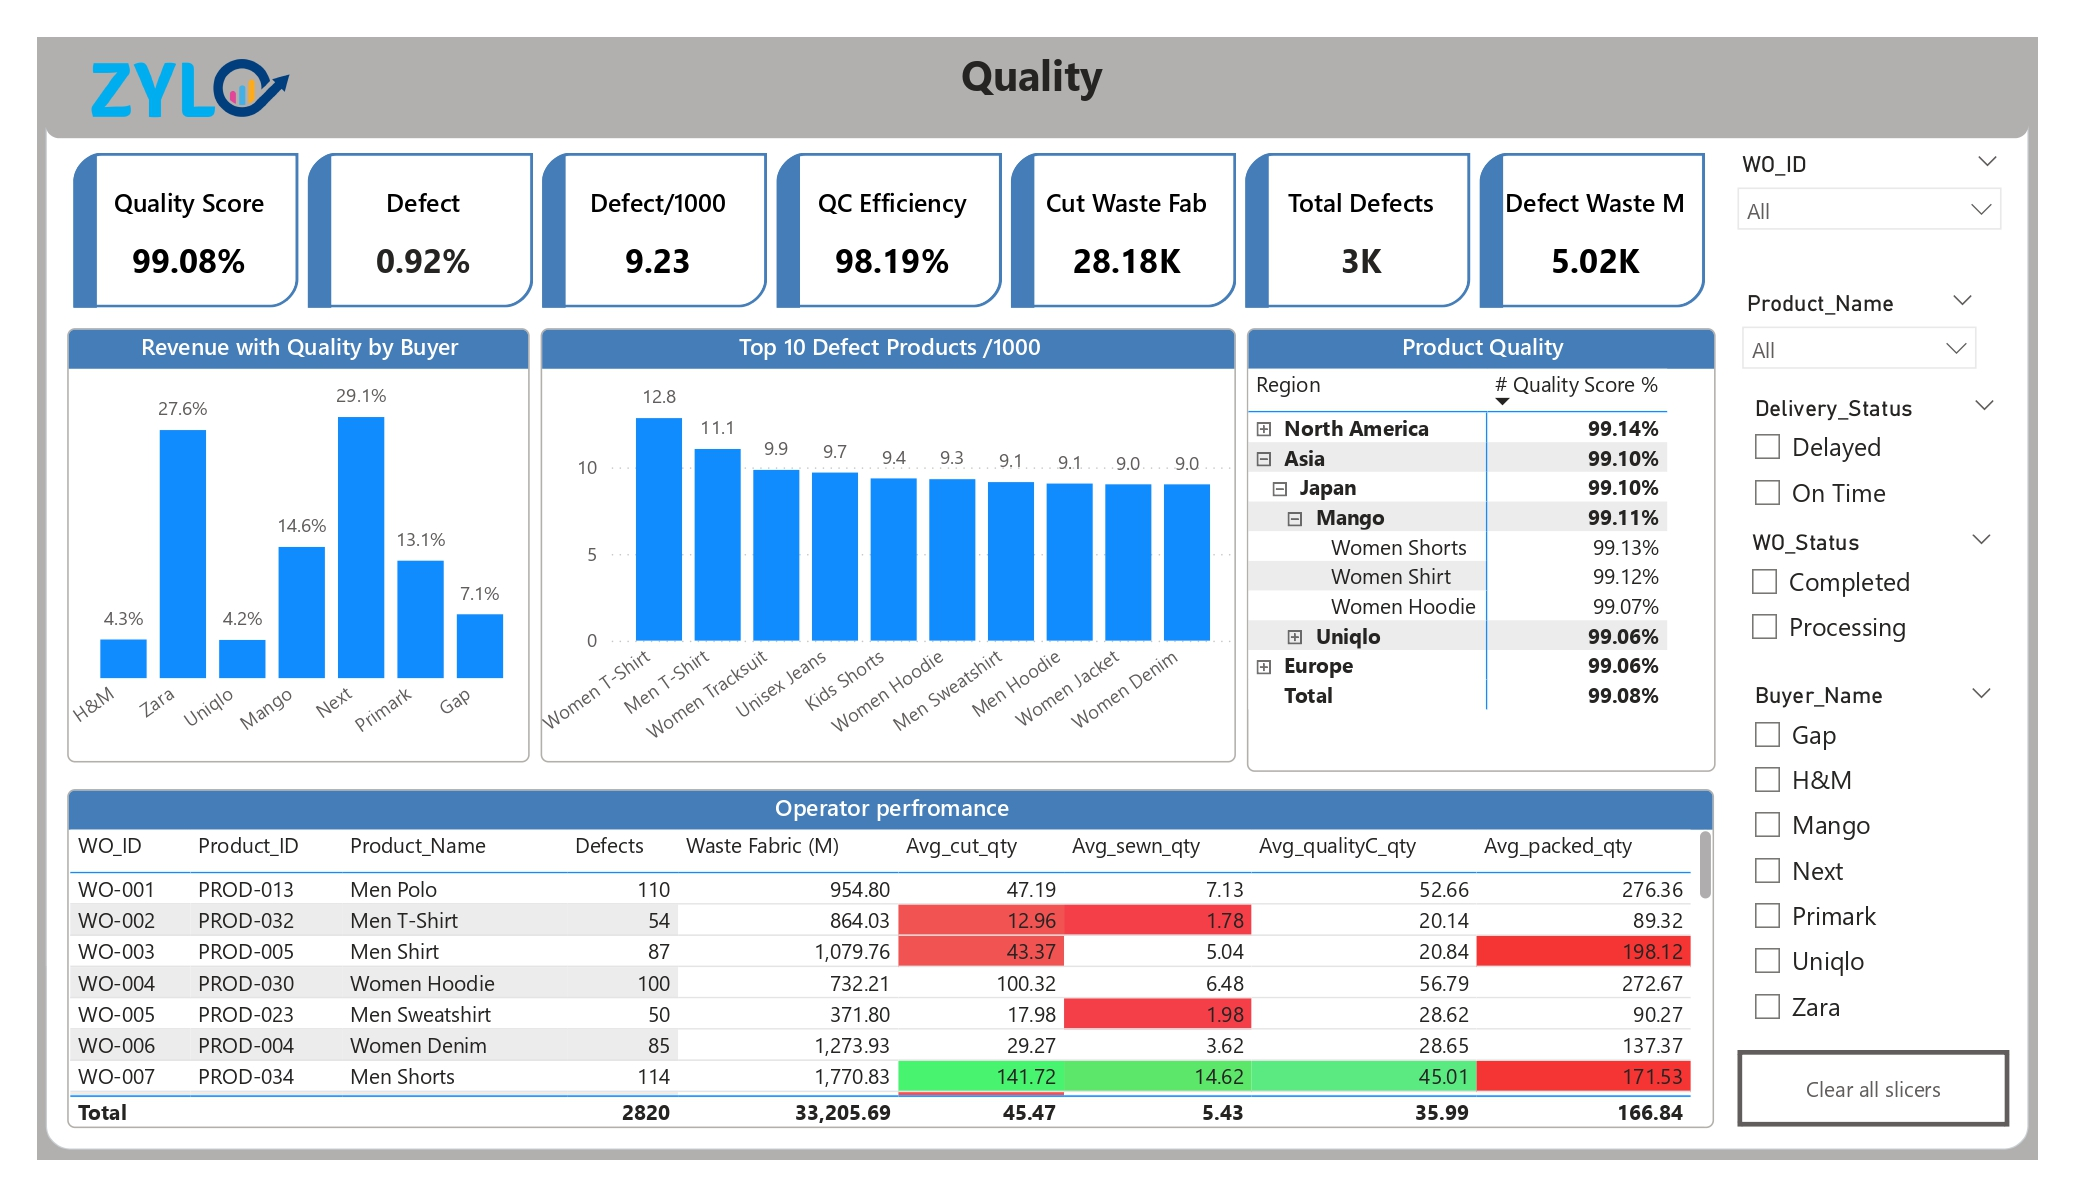

The dashboard page shown, as its layout file describes it:
{"tool":"powerbi","page":{"name":"2. Quality ","canvas":[1280,720],"ordinal":1},"visuals":[{"type":"clusteredColumnChart","title":"Top 10 Defect Products /1000","fields":{"Category":["Dim_Product.Product_Name"],"Y":["_Measures_3_Quality.# Defect Rate per 1000"]},"box":[321.9,185.8,445.5,278.2],"z":0},{"type":"actionButton","box":[1088.2,647.7,173.7,49.8],"z":1000},{"type":"clusteredColumnChart","title":"Revenue with Quality by Buyer","fields":{"Category":["Dim_Buyer.Buyer_Name"],"Y":["Divide(_Measures_5_Cost&Profit.# Actual Revenue, ScopedEval(_Measures_5_Cost&Profit.# Actual Revenue, []))"]},"box":[18.9,185.6,296.4,278.3],"z":2000},{"type":"pivotTable","title":"Product Quality","fields":{"Rows":["Dim_Buyer.Region","Dim_Buyer.Country","Dim_Buyer.Buyer_Name","Dim_Product.Product_Name"],"Values":["_Measures_3_Quality.# Quality Score %"]},"box":[774.2,185.8,299.6,284],"z":3000},{"type":"tableEx","title":"Operator perfromance","fields":{"Values":["Fact_WorkOrders.WO_ID","Dim_Product.Product_ID","Dim_Product.Product_Name","_Measures_3_Quality.# Total Defects","_Measures_3_Quality.# Total Waste Fabric (M)","_Measures_0_Global.# Avg_cut_qty","_Measures_0_Global.# Avg_sewn_qty","_Measures_0_Global.# Avg_qualityC_qty","_Measures_0_Global.# Avg_packed_qty"]},"box":[19.2,481.3,1054.2,216.2],"z":4000},{"type":"cardVisual","fields":{"Data":["_Measures_3_Quality.# Quality Score %","_Measures_3_Quality.# Defect %","_Measures_3_Quality.# Defect Rate per 1000","_Measures_3_Quality.# QC Efficiency","_Measures_3_Quality.# Cut Waste Fabric (M)","_Measures_3_Quality.# Total Defects","_Measures_3_Quality.# Defect Waste Fabric (M)"]},"box":[18.5,69.1,1055.3,108.9],"z":5000},{"type":"slicer","fields":{"Values":["Fact_WorkOrders.WO_Status"]},"box":[1084.5,310.3,179,88.5],"z":6000},{"type":"slicer","fields":{"Values":["Fact_WorkOrders.Delivery_Status"]},"box":[1085.5,224.3,179.1,94.1],"z":7000},{"type":"slicer","fields":{"Values":["Dim_Product.Product_Name"]},"box":[1081,157.4,170.1,66.9],"z":8000},{"type":"slicer","fields":{"Values":["Dim_Buyer.Buyer_Name"]},"box":[1085.5,408,177.3,231.6],"z":9000},{"type":"textbox","box":[344.3,0,591.4,60],"z":10000},{"type":"slicer","fields":{"Values":["Fact_WorkOrders.WO_ID"]},"box":[1078.2,68,189.3,73.2],"z":11000}]}

Visuals, with their boxes on the page's 1280x720 design canvas (x1, y1, x2, y2). These are canvas units, not pixel positions in the 2075x1200 screenshot, which may show the page scaled, cropped or inside an application window:
"Top 10 Defect Products /1000" clusteredColumnChart: (x1=322, y1=186, x2=767, y2=464)
actionButton: (x1=1088, y1=648, x2=1262, y2=698)
"Revenue with Quality by Buyer" clusteredColumnChart: (x1=19, y1=186, x2=315, y2=464)
"Product Quality" pivotTable: (x1=774, y1=186, x2=1074, y2=470)
"Operator perfromance" tableEx: (x1=19, y1=481, x2=1073, y2=698)
cardVisual - _Measures_3_Quality.# Quality Score % x _Measures_3_Quality.# Defect %: (x1=18, y1=69, x2=1074, y2=178)
slicer - Fact_WorkOrders.WO_Status: (x1=1084, y1=310, x2=1264, y2=399)
slicer - Fact_WorkOrders.Delivery_Status: (x1=1086, y1=224, x2=1265, y2=318)
slicer - Dim_Product.Product_Name: (x1=1081, y1=157, x2=1251, y2=224)
slicer - Dim_Buyer.Buyer_Name: (x1=1086, y1=408, x2=1263, y2=640)
textbox: (x1=344, y1=0, x2=936, y2=60)
slicer - Fact_WorkOrders.WO_ID: (x1=1078, y1=68, x2=1268, y2=141)
